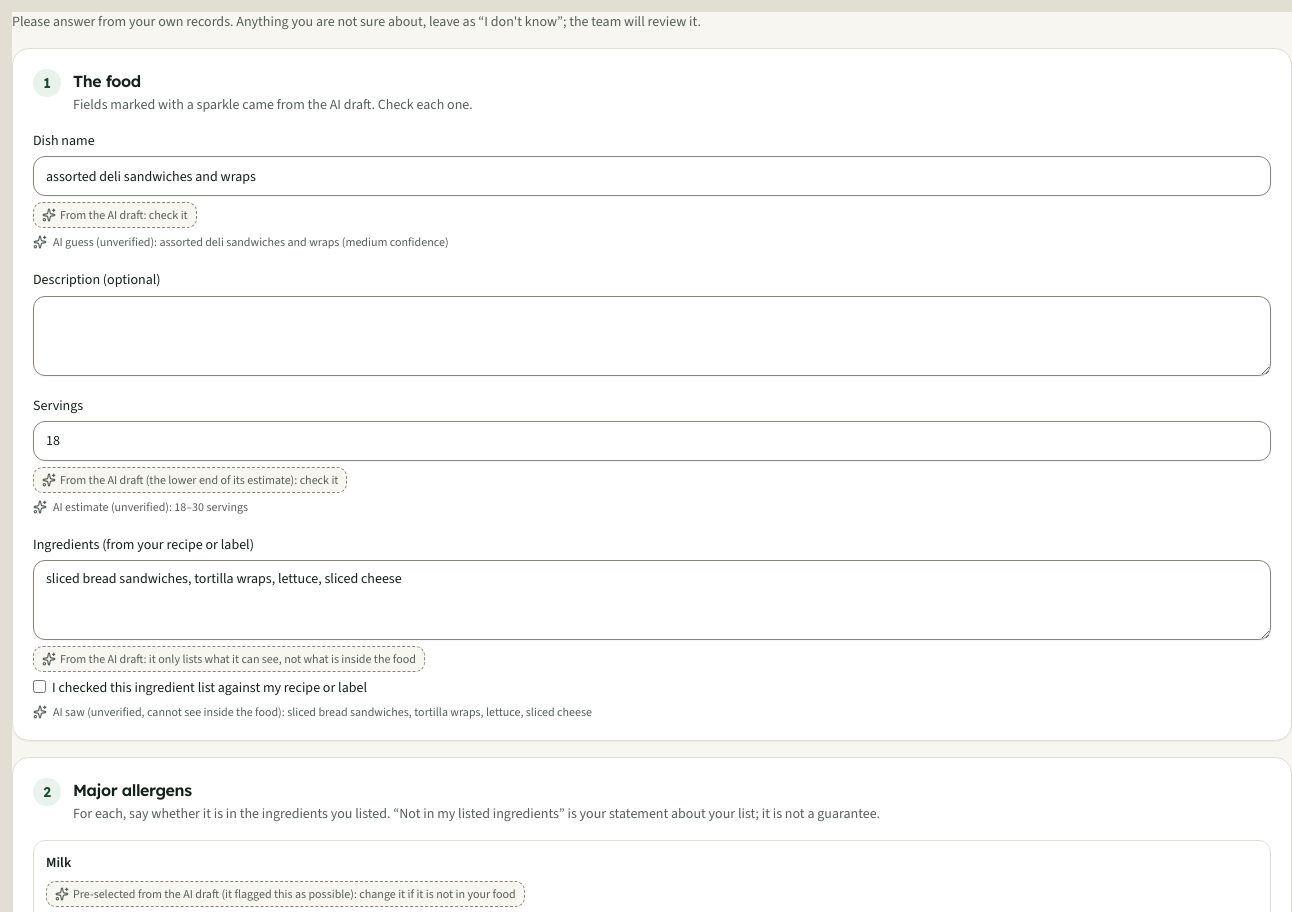
the donor stays in control › editing a filled field removes its tag and the donor's text wins
Replace the text in the field labelled "Dish name" with "Club sandwich tray": (652, 176) 33,156 -> 1271,196
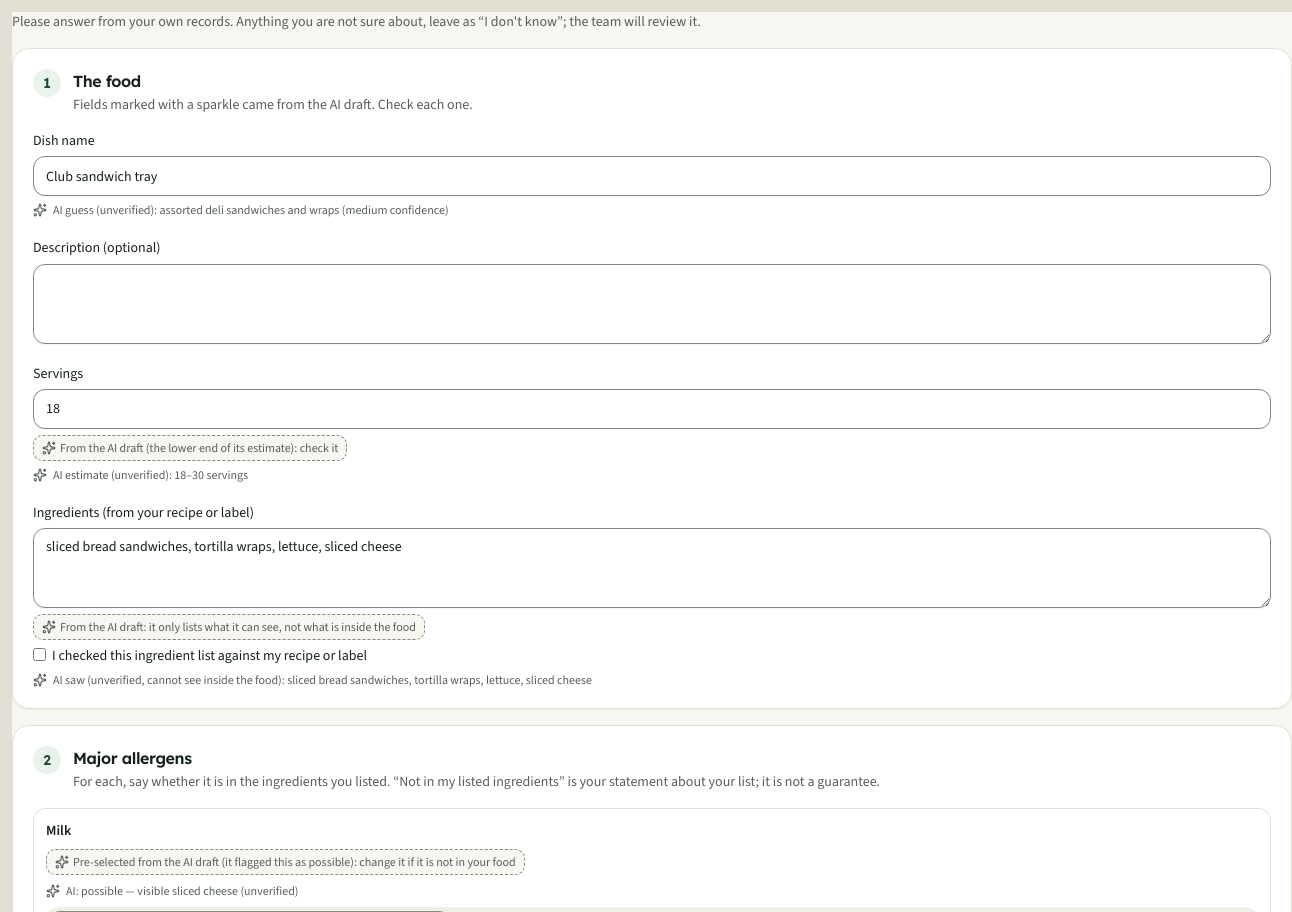
Result: the element with test id "ai-filled-dish_name" is gone
Replace the text in the number field labelled "Servings" with "24": (652, 409) 33,389 -> 1271,429
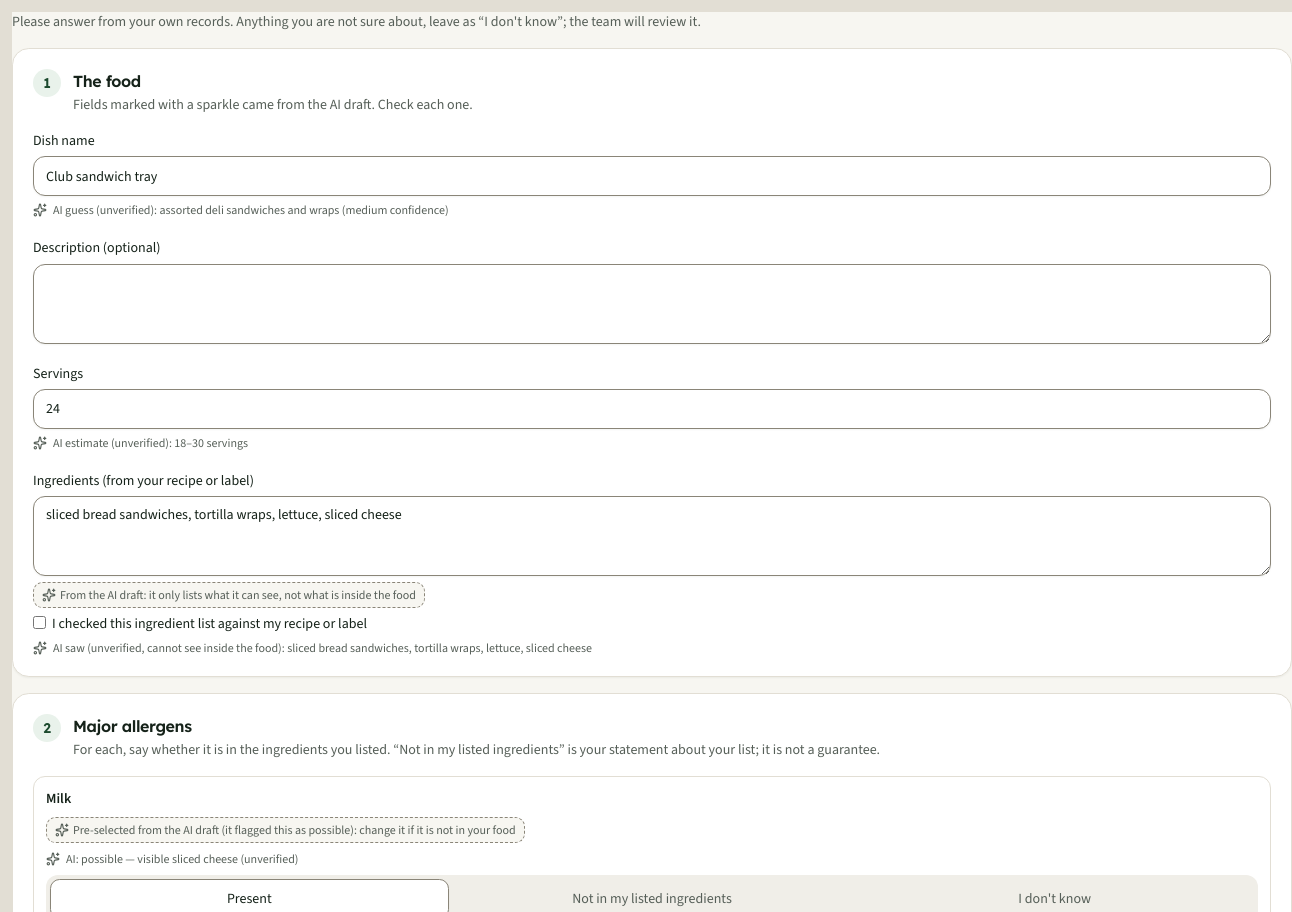
Result: the element with test id "ai-filled-servings" is gone
